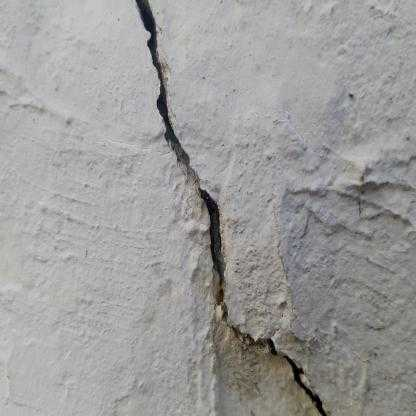crack: (133, 0, 335, 416)
